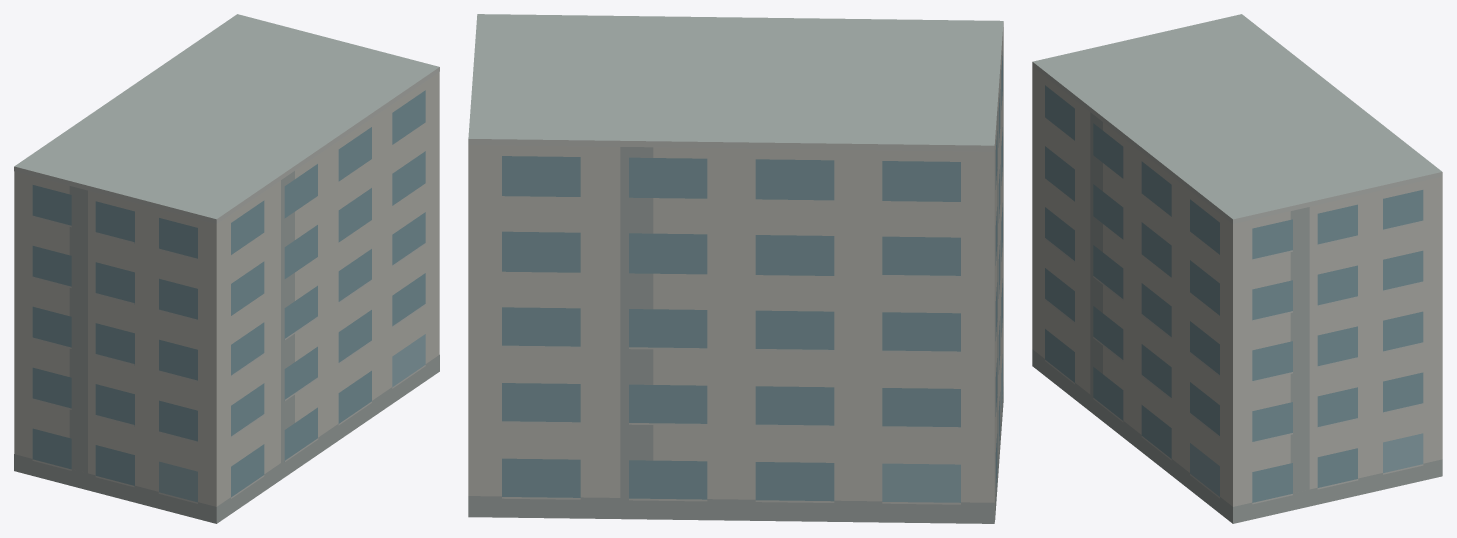
File: residential-9a10433e-ec76-4e71-ba06-a97105e28d97.glb
The picture shows the model from 3 angles, left to right: view 1: azimuth 30°, elevation 25°; view 2: azimuth 150°, elevation 25°; view 3: azimuth 270°, elevation 25°; orthographic projection. The views are drawn at different scales.
Visible parts, largest first — view 1: residential-9a10433e-ec76-4e71-ba06-a97105e28d97.tmp; view 2: residential-9a10433e-ec76-4e71-ba06-a97105e28d97.tmp; view 3: residential-9a10433e-ec76-4e71-ba06-a97105e28d97.tmp.
Part boxes in pixels (<box>): residential-9a10433e-ec76-4e71-ba06-a97105e28d97.tmp: <box>14,14,439,523</box>; residential-9a10433e-ec76-4e71-ba06-a97105e28d97.tmp: <box>468,14,1003,523</box>; residential-9a10433e-ec76-4e71-ba06-a97105e28d97.tmp: <box>1032,14,1442,523</box>.
Size of the model in its own units: 22.07 by 15.25 by 18.62.
